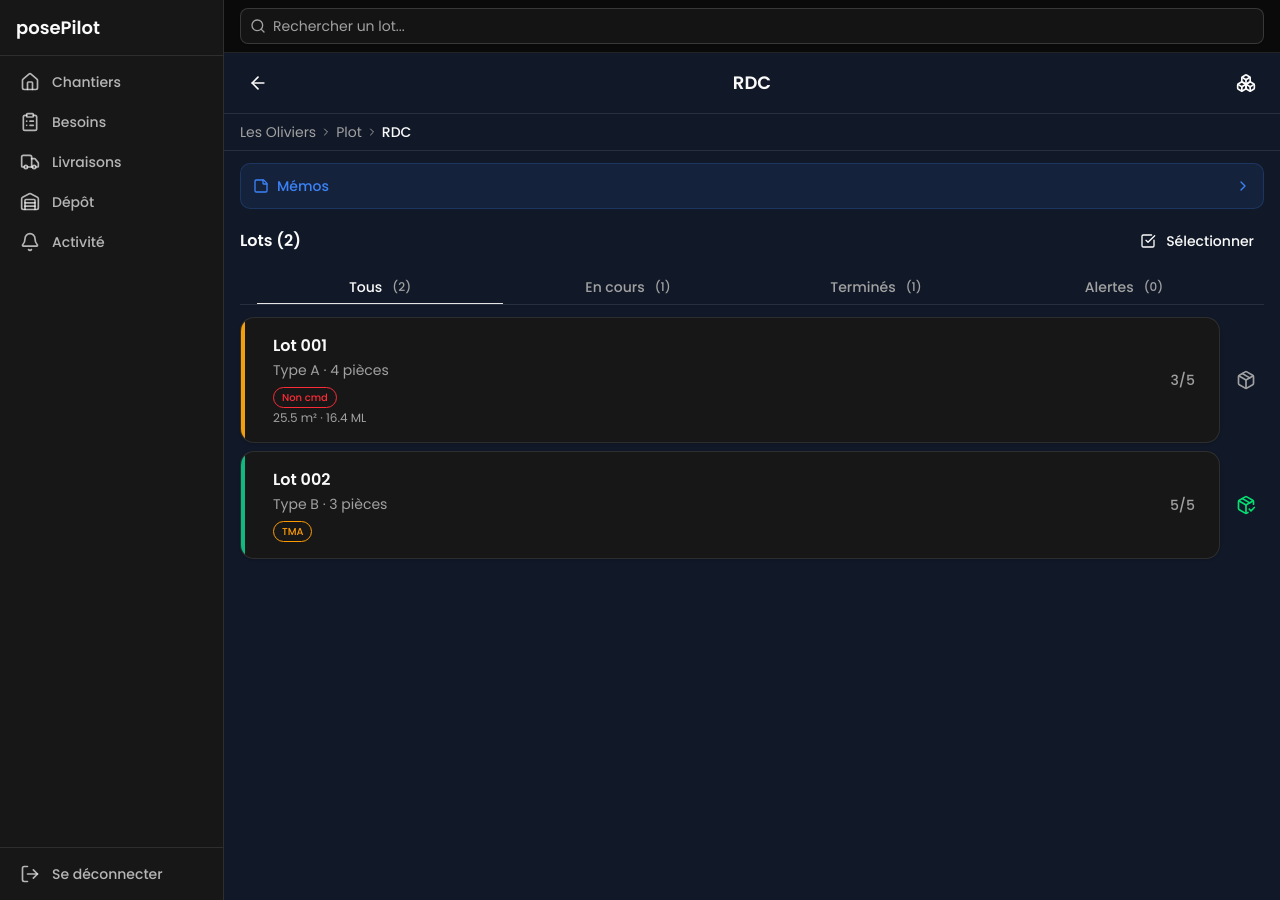
Test: EtageIndexPage — Matériaux statut › opens bottom sheet on materiaux button click
Expected: the text "Lot 001" is shown, [273, 334, 327, 358]
Click the button named "Matériaux non reçus lot 001": (1246, 380) [1228, 362, 1264, 398]
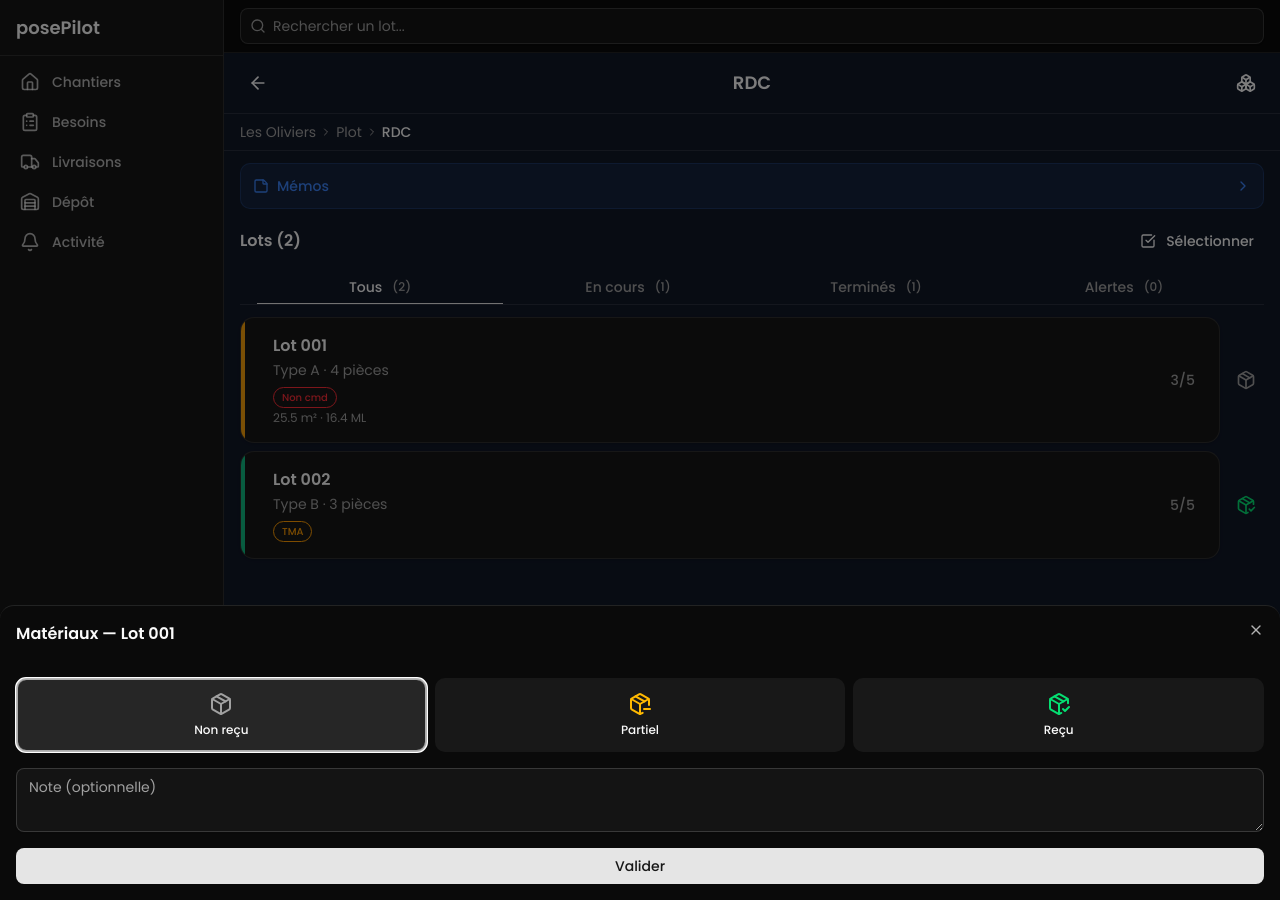
Expected: the heading "Matériaux — Lot 001" is shown, [16, 622, 175, 645]
